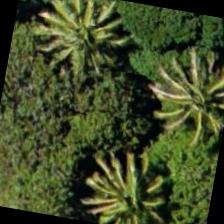Kelapa_Sawit: (29, 0, 134, 98), (74, 139, 178, 223), (150, 58, 223, 159)
